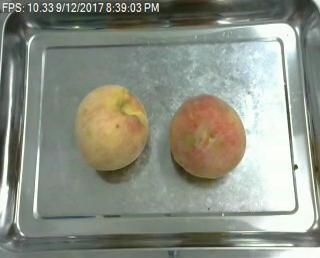Peach: (75, 83, 149, 171), (170, 94, 246, 177)
